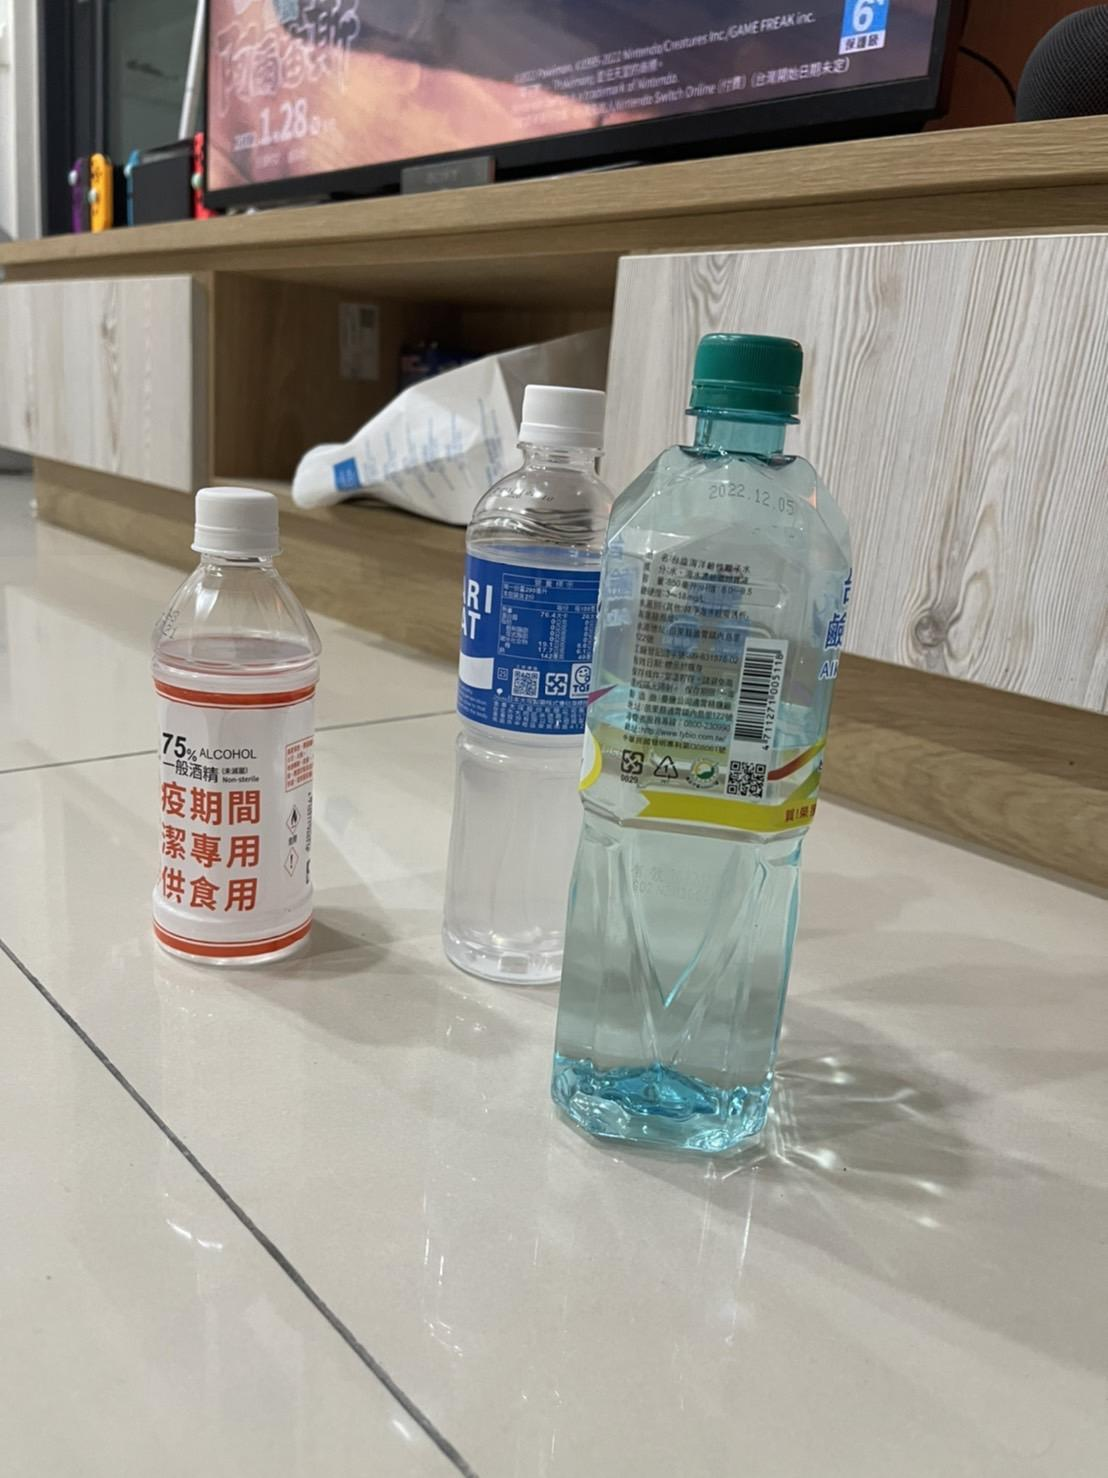bottle: (419, 364, 644, 997), (140, 497, 329, 952), (525, 0, 869, 71)
